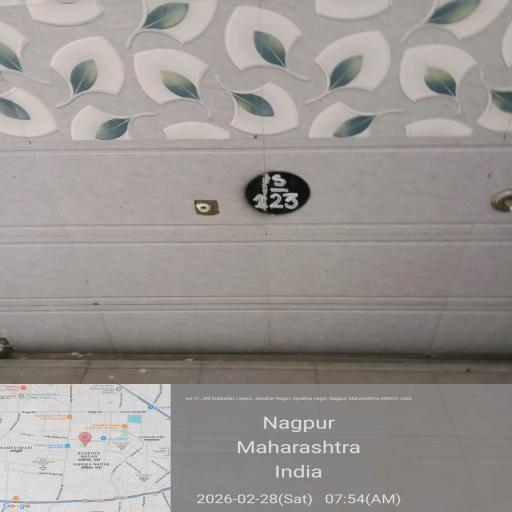clean_floor: (74, 125, 470, 504)
